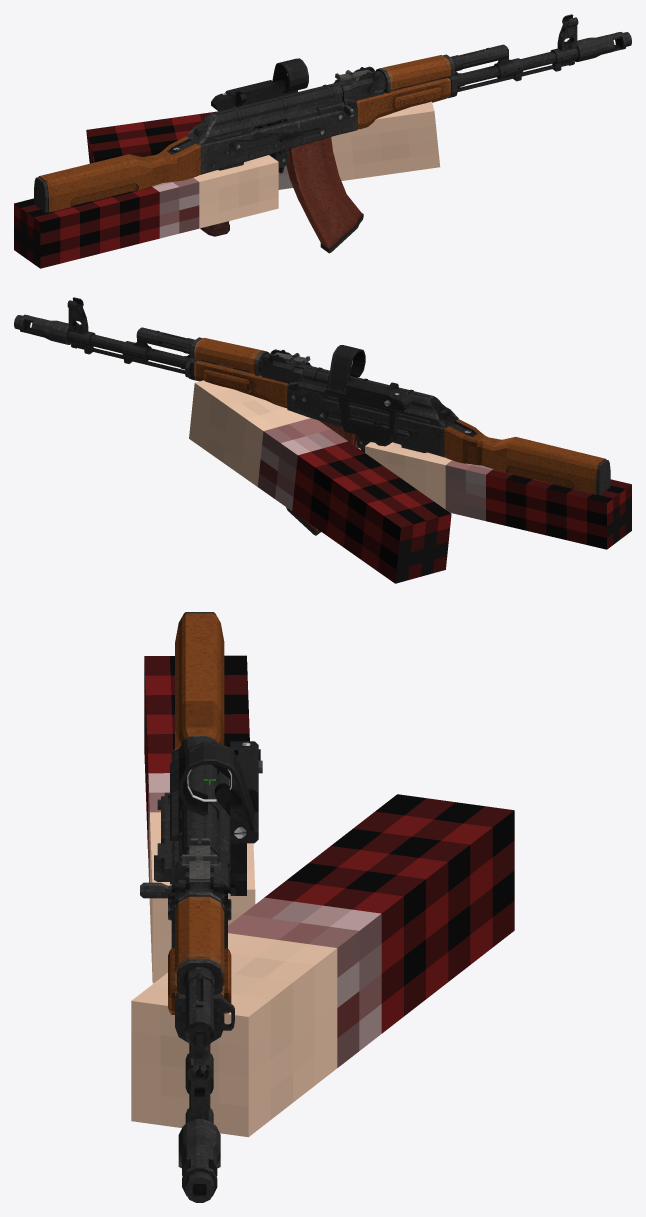
Rendered from akm.gltf.
The picture shows the model from 3 angles, top to bottom: view 1: azimuth 30°, elevation 25°; view 2: azimuth 150°, elevation 25°; view 3: azimuth 270°, elevation 25°; orthographic projection. The views are drawn at different scales.
Visible parts, largest first — view 1: rightArm, leftArm, body, stock, ammo, receiver_back, okp-7, forearm, receiver_front, compensator, pipe, slide; view 2: leftArm, rightArm, body, stock, okp-7, receiver_back, forearm, receiver_front, compensator, pipe, ammo; view 3: leftArm, rightArm, body, okp-7, stock, receiver_back, receiver_front, compensator, pipe, sight, forearm.
Part boxes in pixels (x1,y1,x2,y2): rightArm: (14,155,278,268); leftArm: (86,101,440,189); body: (168,14,579,174); stock: (34,136,200,212); ammo: (286,137,363,253); receiver_back: (186,83,342,145); okp-7: (211,58,308,111); forearm: (356,77,450,129); receiver_front: (382,55,450,90); compensator: (574,32,631,61); pipe: (376,49,489,93); slide: (280,95,353,122); leftArm: (189,380,451,583); rightArm: (365,442,631,549); body: (66,297,476,457); stock: (444,419,610,495); okp-7: (325,345,412,446); receiver_back: (299,365,458,427); forearm: (194,360,288,408); receiver_front: (194,337,262,373); compensator: (14,314,71,344); pipe: (155,332,269,376); ammo: (286,421,358,535); leftArm: (131,794,514,1137); rightArm: (144,655,255,983); body: (154,792,236,1123); okp-7: (179,741,262,895); stock: (172,612,224,751); receiver_back: (168,736,229,885); receiver_front: (175,896,224,986); compensator: (178,1119,220,1202); pipe: (175,892,224,1013); sight: (180,838,218,881); forearm: (168,904,231,1014).
Bounding box in the file's own units: 11.7 × 3.6 × 3.23.
Materials: 3 (3 with a texture image).
